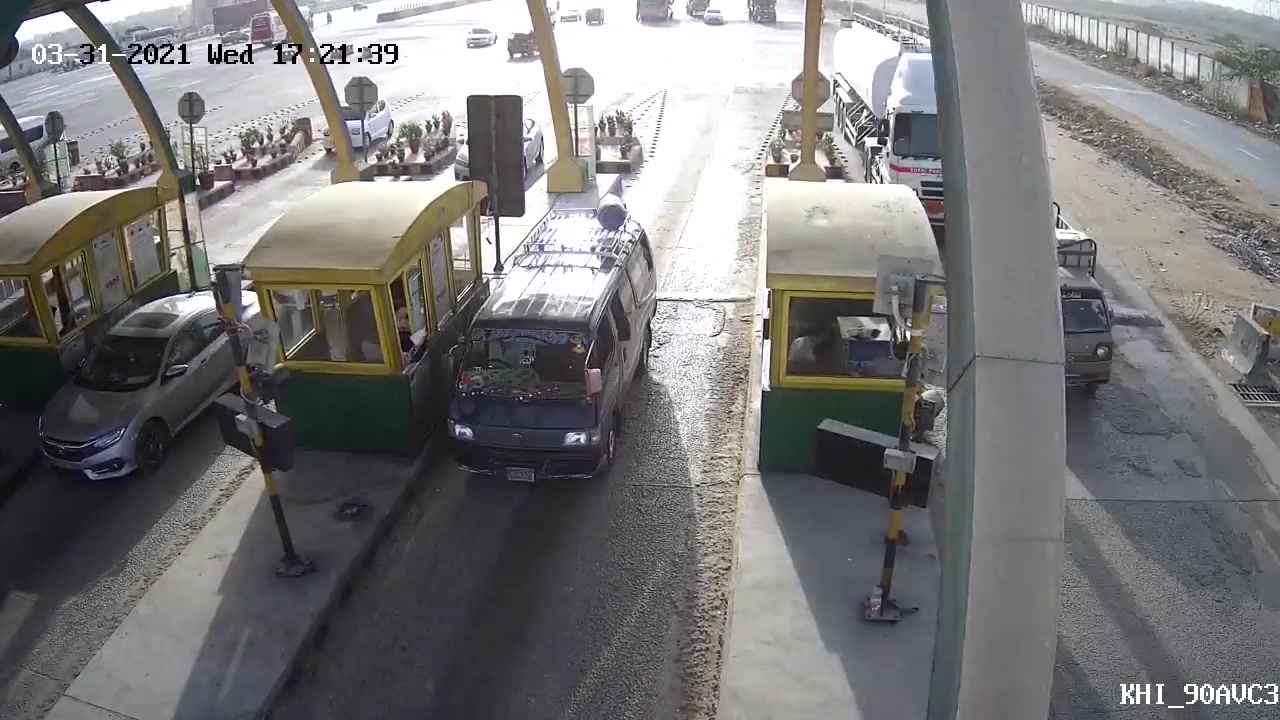F2: (433, 196, 667, 501)
